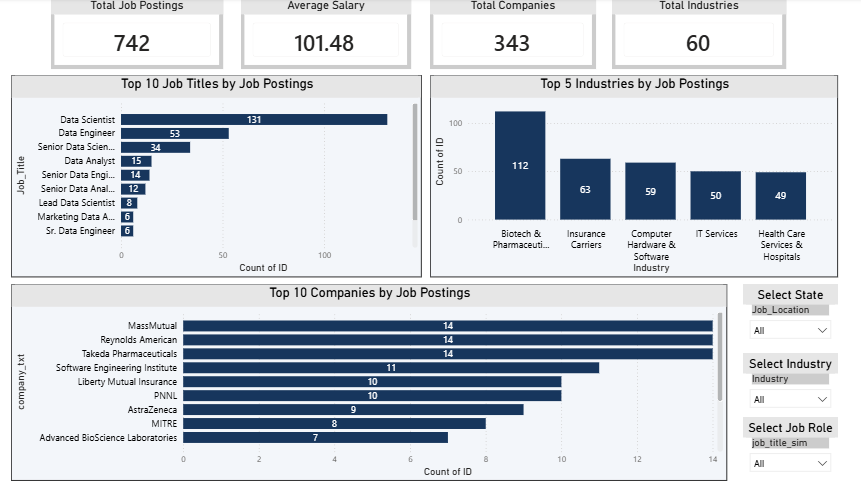

Layout of this report page (visuals, bound fields, positions):
{"tool":"powerbi","page":{"name":"Job Market Overview","canvas":[1280,720],"ordinal":0},"visuals":[{"type":"cardVisual","title":"Total Job Postings","fields":{"Data":["CountNonNull(Market.ID)"]},"box":[84.9,0,251.7,103.9],"z":0},{"type":"cardVisual","title":"Average Salary","fields":{"Data":["Avg(Market.Avg_SalaryK)"]},"box":[362.9,0,248.8,103.9],"z":1000},{"type":"cardVisual","title":"Total Companies","fields":{"Data":["Count(Market.company_txt)"]},"box":[639.5,0,242.9,103.9],"z":2000},{"type":"cardVisual","title":"Total Industries","fields":{"Data":["Count(Market.Industry)"]},"box":[905.9,0,254.6,103.9],"z":3000},{"type":"clusteredBarChart","title":"Top 10 Job Titles by Job Postings","fields":{"Category":["Market.Job_Title"],"Y":["CountNonNull(Market.ID)"]},"box":[26.3,112.7,601.5,295.6],"z":4000},{"type":"clusteredColumnChart","title":"Top 5 Industries by Job Postings","fields":{"Y":["CountNonNull(Market.ID)"],"Category":["Market.Industry"]},"box":[639.5,112.7,597.1,295.6],"z":5000},{"type":"clusteredBarChart","title":"Top 10 Companies by Job Postings","fields":{"Y":["CountNonNull(Market.ID)"],"Category":["Market.company_txt"]},"box":[26.3,418.5,1047.8,288.3],"z":6000},{"type":"slicer","title":"Select State","fields":{"Values":["Market.Job_Location"]},"box":[1097.6,418.5,139,93.7],"z":7000},{"type":"slicer","title":"Select Industry","fields":{"Values":["Market.Industry"]},"box":[1097.6,519.5,139,93.7],"z":8000},{"type":"slicer","title":"Select Job Role","fields":{"Values":["Market.job_title_sim"]},"box":[1097.6,613.2,139,93.7],"z":9000}]}

Visuals, with their boxes in screenshot pixels (x1, y1, x2, y2), scaled from the page's 1280x720 canvas onto the 861x486 screenshot:
"Total Job Postings" cardVisual: 57 0 226 70
"Average Salary" cardVisual: 244 0 411 70
"Total Companies" cardVisual: 430 0 594 70
"Total Industries" cardVisual: 609 0 781 70
"Top 10 Job Titles by Job Postings" clusteredBarChart: 18 76 422 276
"Top 5 Industries by Job Postings" clusteredColumnChart: 430 76 832 276
"Top 10 Companies by Job Postings" clusteredBarChart: 18 282 723 477
"Select State" slicer: 738 282 832 346
"Select Industry" slicer: 738 351 832 414
"Select Job Role" slicer: 738 414 832 477
